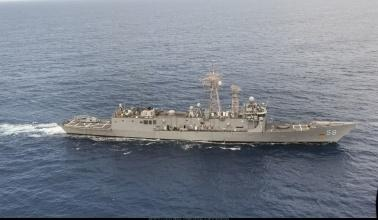warship: (59, 55, 356, 147)
